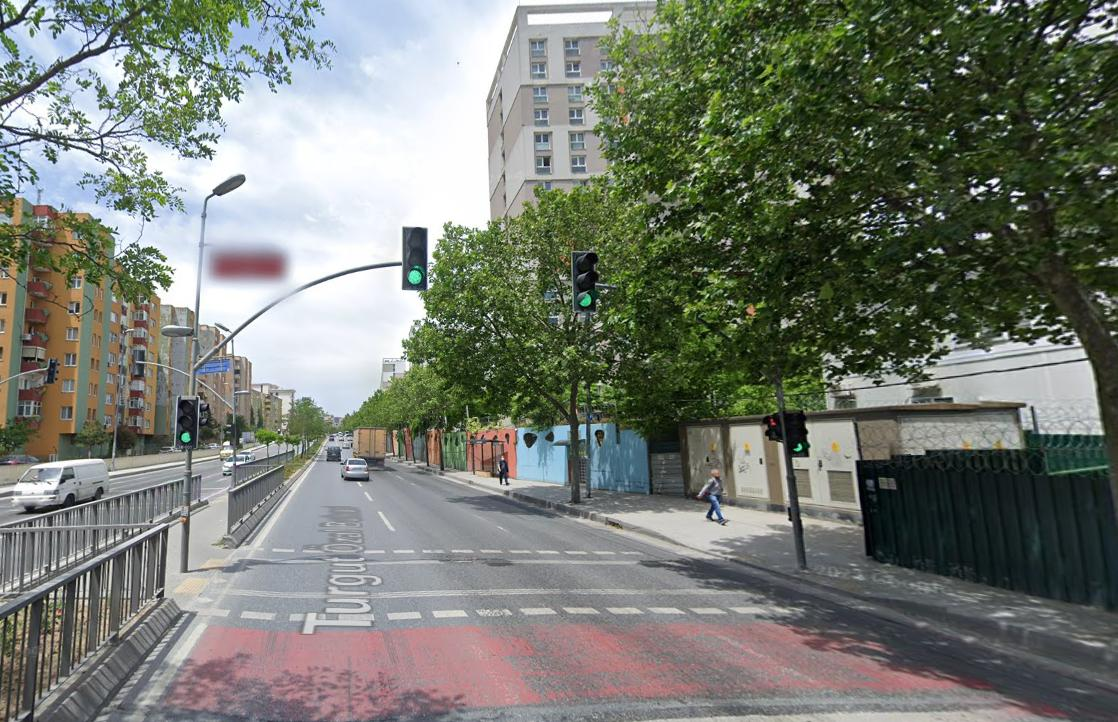greenlight: (400, 227, 428, 291), (782, 407, 812, 459), (572, 252, 597, 313), (177, 398, 198, 451)
